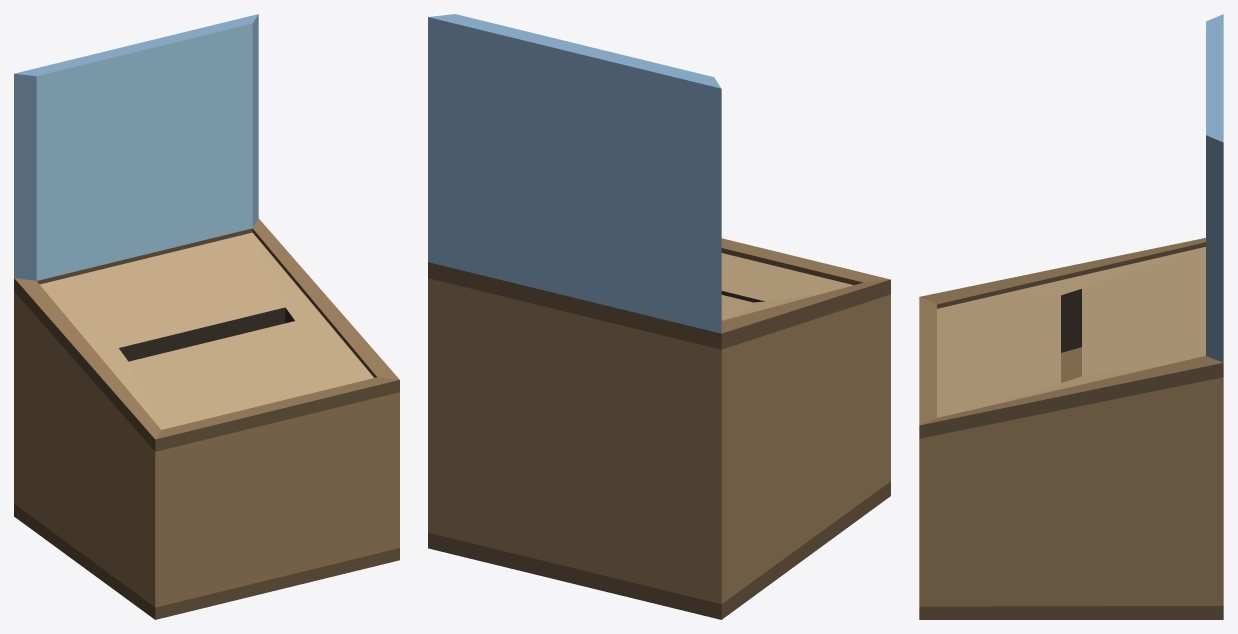
File: QR-DonationBox.glb
3 renders of one model, left to right at view 1: azimuth 30°, elevation 25°; view 2: azimuth 150°, elevation 25°; view 3: azimuth 270°, elevation 25°, orthographic. The views are drawn at different scales.
Visible parts, largest first — view 1: Donation_Box; view 2: Donation_Box; view 3: Donation_Box.
Boxes of the visible parts, box(x1,y1,x2,y2) form: Donation_Box: box(14, 14, 399, 619); Donation_Box: box(428, 14, 890, 619); Donation_Box: box(919, 14, 1223, 619).
Size of what is drawn, in the model's own units: 0.4214 by 0.7291 by 0.4214.
Materials: 1 (1 with a texture image).
